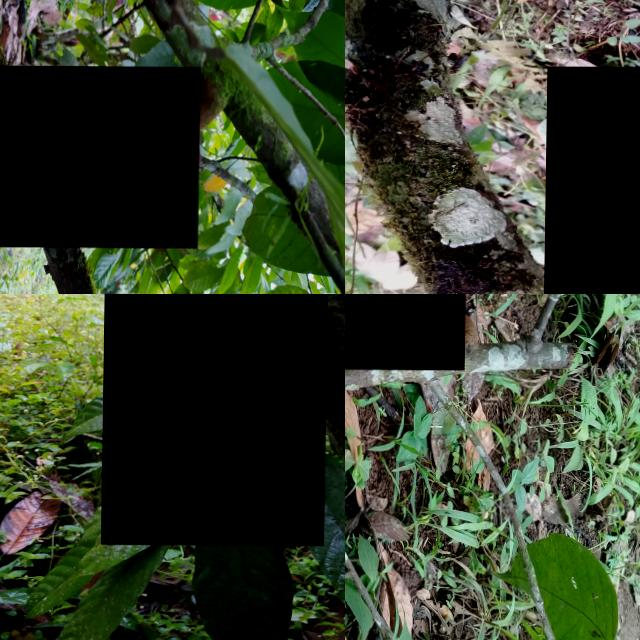Fitoftora: (543, 66, 640, 294)
Monilia: (102, 294, 328, 545), (0, 64, 201, 247), (345, 294, 467, 369)
